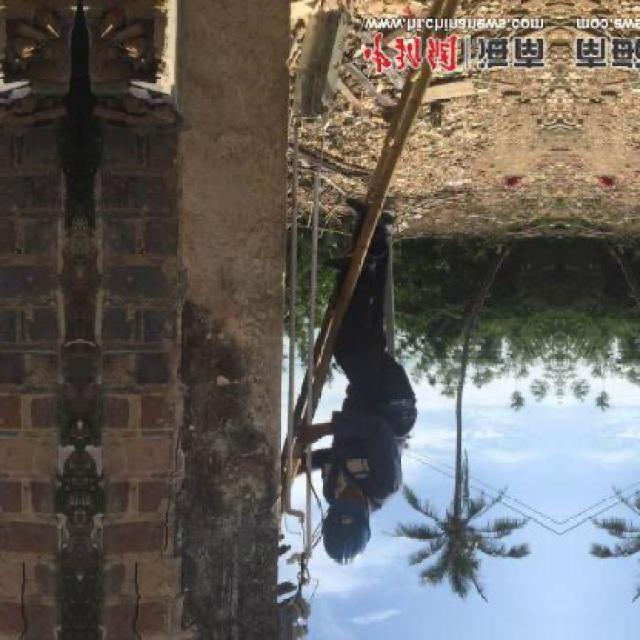con casco: (300, 448, 428, 578)
